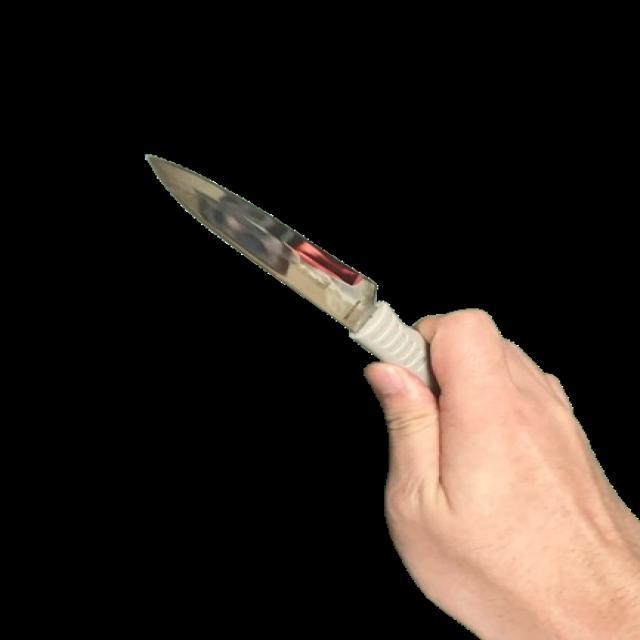knife: (154, 157, 441, 395)
